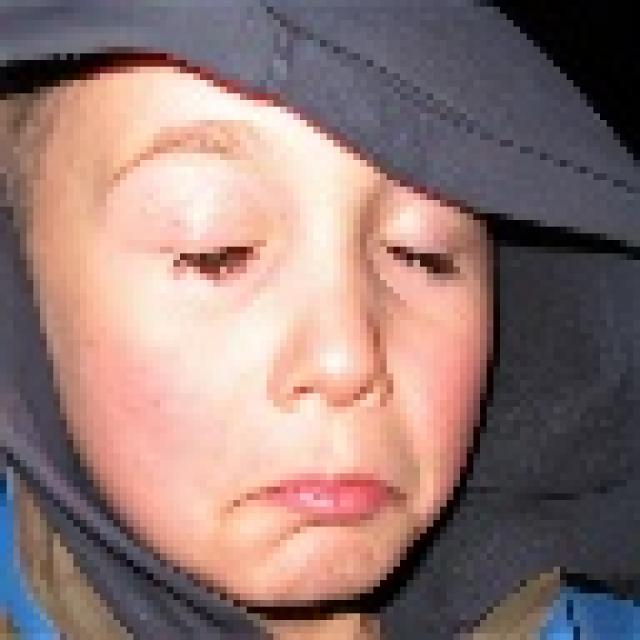sad: (32, 19, 516, 637)
